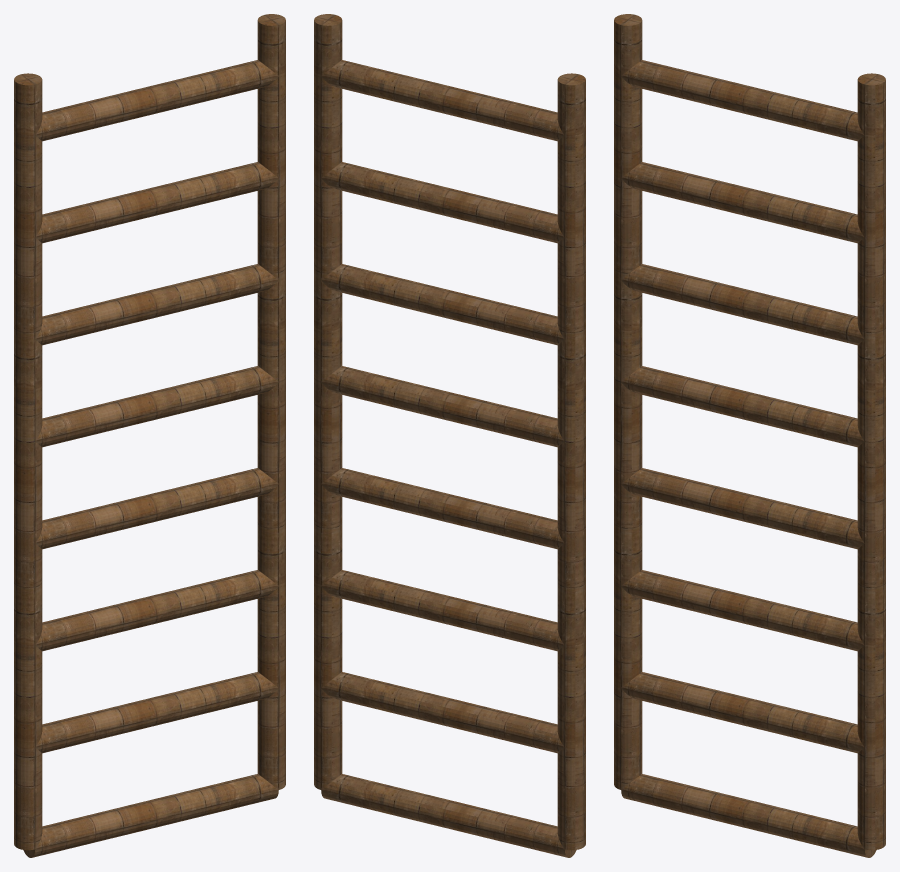
The model's file is escada.glb.
The picture shows the model from 3 angles, left to right: view 1: azimuth 30°, elevation 25°; view 2: azimuth 150°, elevation 25°; view 3: azimuth 330°, elevation 25°; orthographic projection.
Parts seen in each view (by area): view 1: Longarina, Longarina.001, Degrau, Degrau.007, Degrau.003, Degrau.005, Degrau.006, Degrau.002, Degrau.004, Degrau.001; view 2: Longarina, Longarina.001, Degrau, Degrau.007, Degrau.003, Degrau.005, Degrau.006, Degrau.002, Degrau.004, Degrau.001; view 3: Longarina.001, Longarina, Degrau, Degrau.007, Degrau.003, Degrau.005, Degrau.006, Degrau.002, Degrau.004, Degrau.001.
Boxes of the visible parts, x1,y1,x2,y2 form: Longarina: [14, 73, 42, 850]; Longarina.001: [257, 14, 285, 789]; Degrau: [23, 774, 278, 857]; Degrau.007: [35, 60, 278, 141]; Degrau.003: [35, 468, 278, 549]; Degrau.005: [35, 264, 278, 345]; Degrau.006: [35, 162, 278, 243]; Degrau.002: [35, 570, 278, 651]; Degrau.004: [35, 366, 278, 447]; Degrau.001: [35, 672, 278, 753]; Longarina: [557, 73, 585, 850]; Longarina.001: [314, 14, 342, 789]; Degrau: [321, 774, 576, 857]; Degrau.007: [321, 60, 564, 141]; Degrau.003: [321, 468, 564, 549]; Degrau.005: [321, 264, 564, 345]; Degrau.006: [321, 162, 564, 243]; Degrau.002: [321, 570, 564, 651]; Degrau.004: [321, 366, 564, 447]; Degrau.001: [321, 672, 564, 753]; Longarina.001: [857, 73, 885, 850]; Longarina: [614, 14, 642, 789]; Degrau: [621, 774, 876, 857]; Degrau.007: [621, 60, 864, 141]; Degrau.003: [621, 468, 864, 549]; Degrau.005: [621, 264, 864, 345]; Degrau.006: [621, 162, 864, 243]; Degrau.002: [621, 570, 864, 651]; Degrau.004: [621, 366, 864, 447]; Degrau.001: [621, 672, 864, 753].
Bounding box in the file's own units: 1.1 × 3.05 × 0.1.
Materials: 1 (1 with a texture image).
